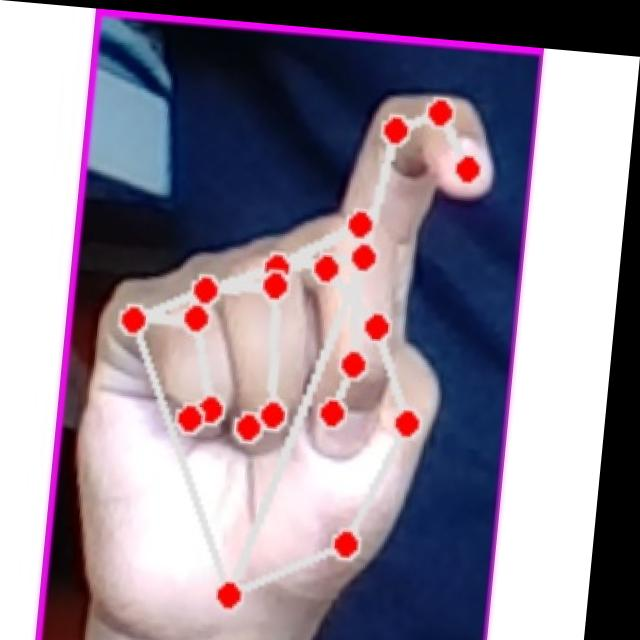Z: (77, 46, 511, 637)
